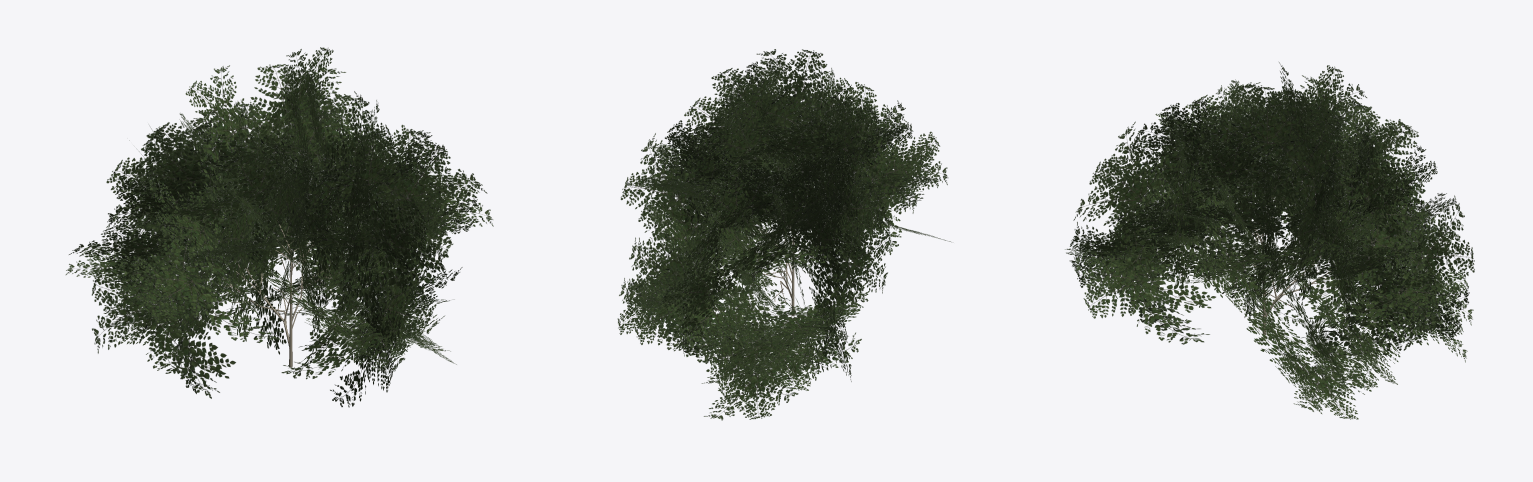
3 views of the same model, side by side, from view 1: azimuth 30°, elevation 25°; view 2: azimuth 150°, elevation 25°; view 3: azimuth 270°, elevation 25° (orthographic). The views are drawn at different scales.
Visible parts, largest first — view 1: Sans_titre; view 2: Sans_titre; view 3: Sans_titre.
Part boxes in pixels (x1,y1,x2,y2): Sans_titre: [65, 47, 493, 407]; Sans_titre: [617, 49, 951, 420]; Sans_titre: [1065, 62, 1474, 419].
Size of the model in its own units: 2.53 by 2.45 by 2.79.
2 materials, 1 textured.
